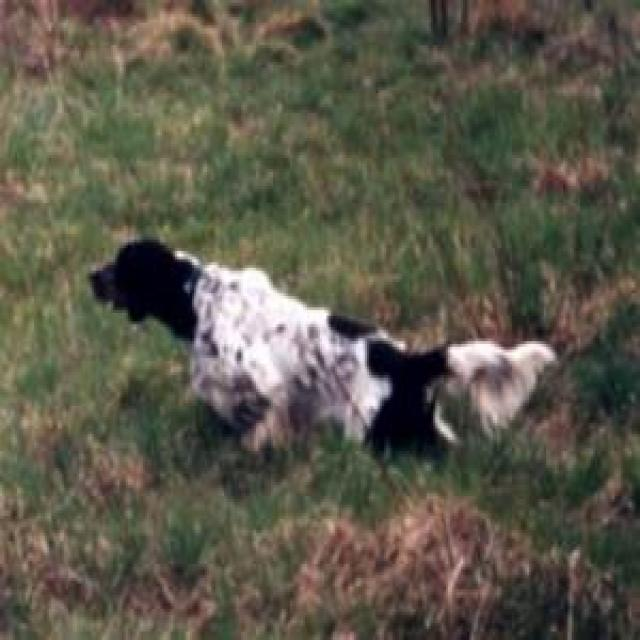dog: (87, 240, 544, 454)
